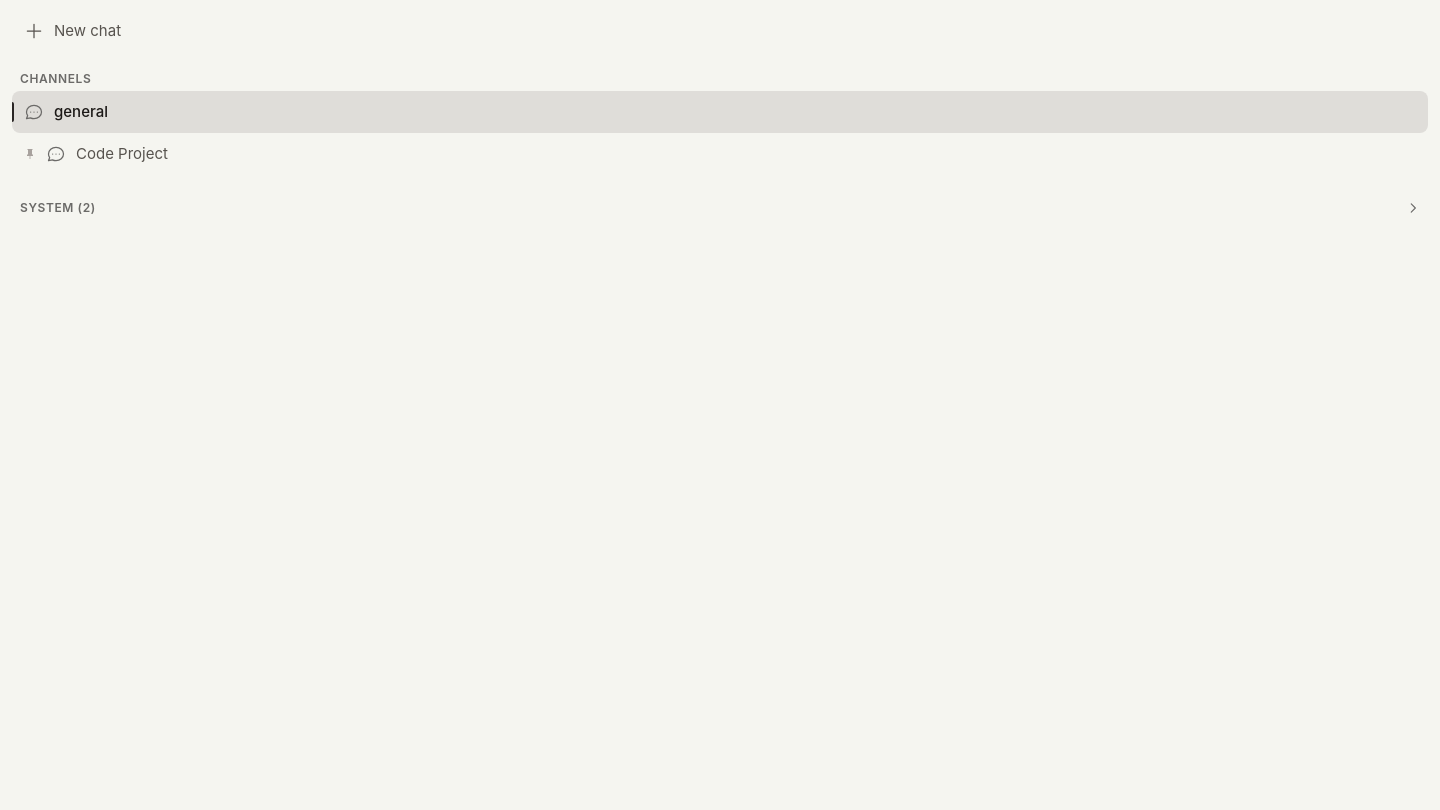
Test: context menu › Delete on cron session opens type-to-confirm dialog
Click the button "System (2)" at [51, 207], box [12,192,1428,224]
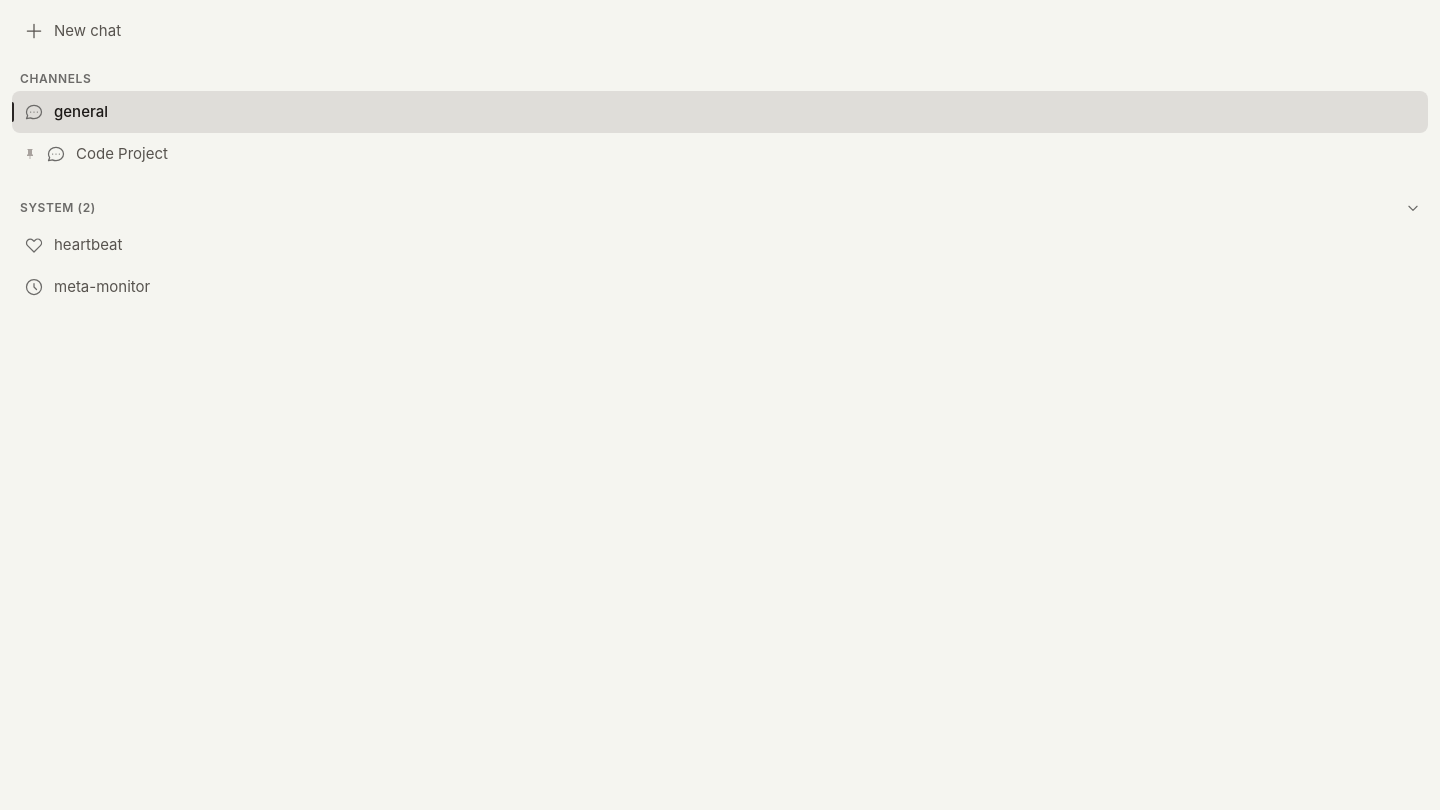
Right-click the button "meta-monitor" at [102, 286], box [12,266,1428,308]
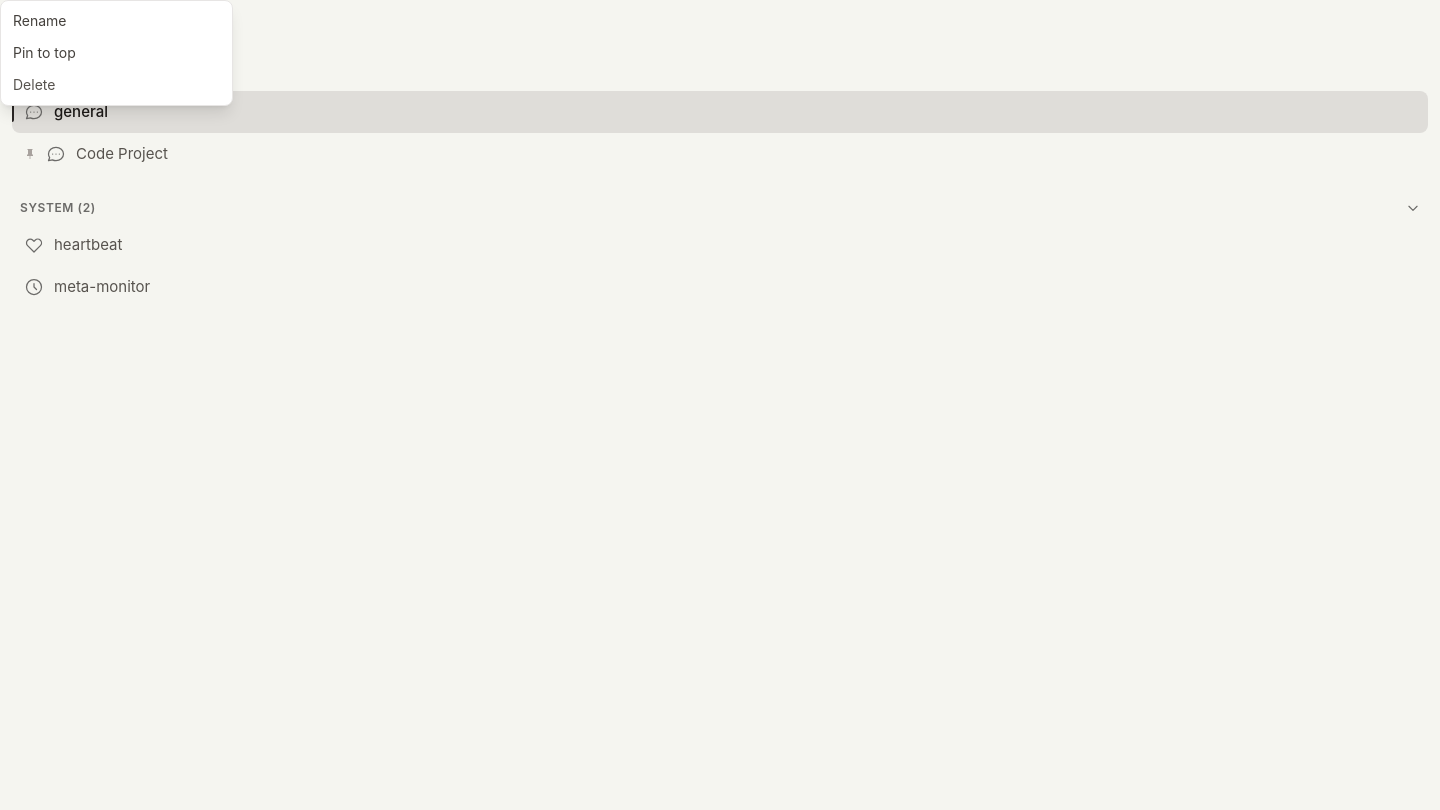
Click the button "Delete" at [116, 85], box [1,69,232,101]
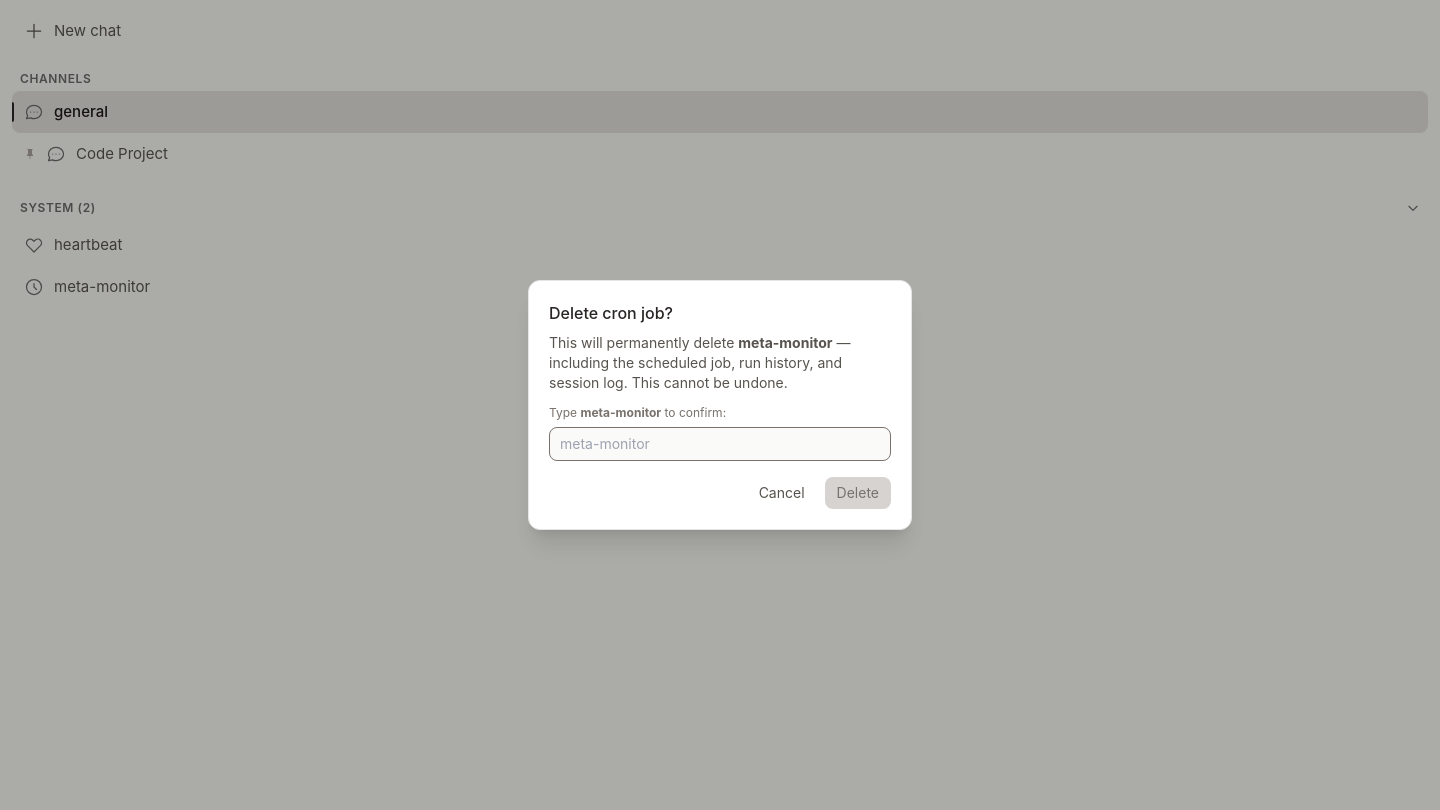
Check: the heading "Delete cron job?" is shown, box [549,303,673,323]
Check: the text "Type meta-monitor to confirm:" is shown, box [549,405,726,420]
